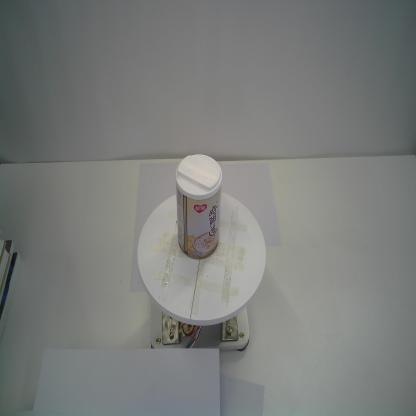Canned Food: (173, 150, 226, 261)
